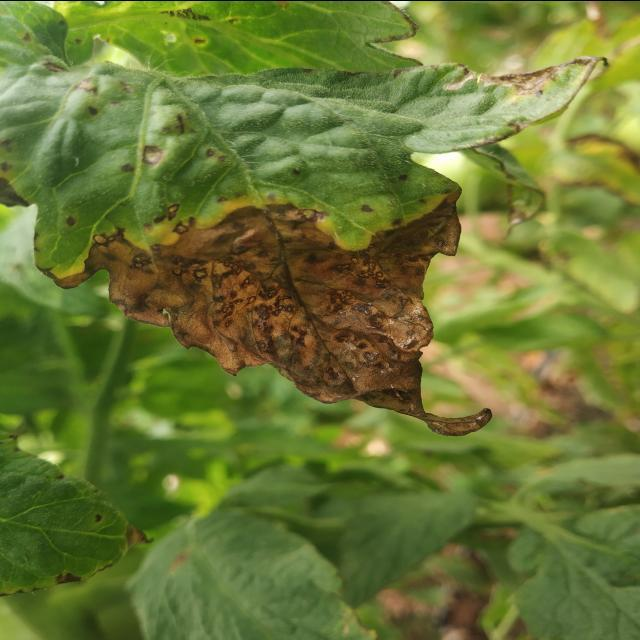Tomato mosaic virus leaf: (30, 66, 498, 442), (0, 422, 160, 600)
